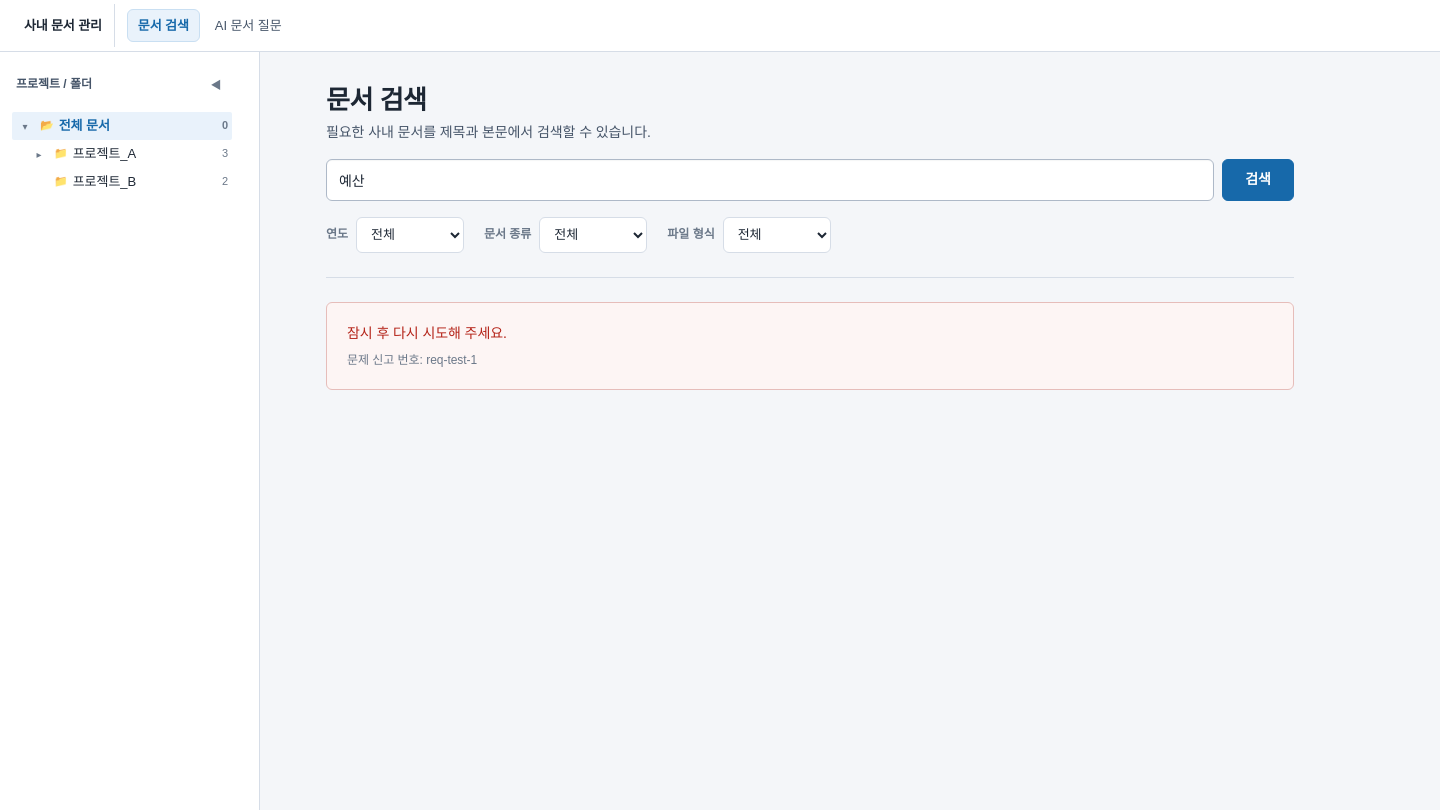
SearchPage › retries the same query on submit after a server failure
Expected: the message "잠시 후 다시 시도해 주세요. 문제 신고 번호: req-test-1" is shown, [326,302,1294,390]
Click the button "검색" at x=1258, y=180, box [1222,159,1294,201]
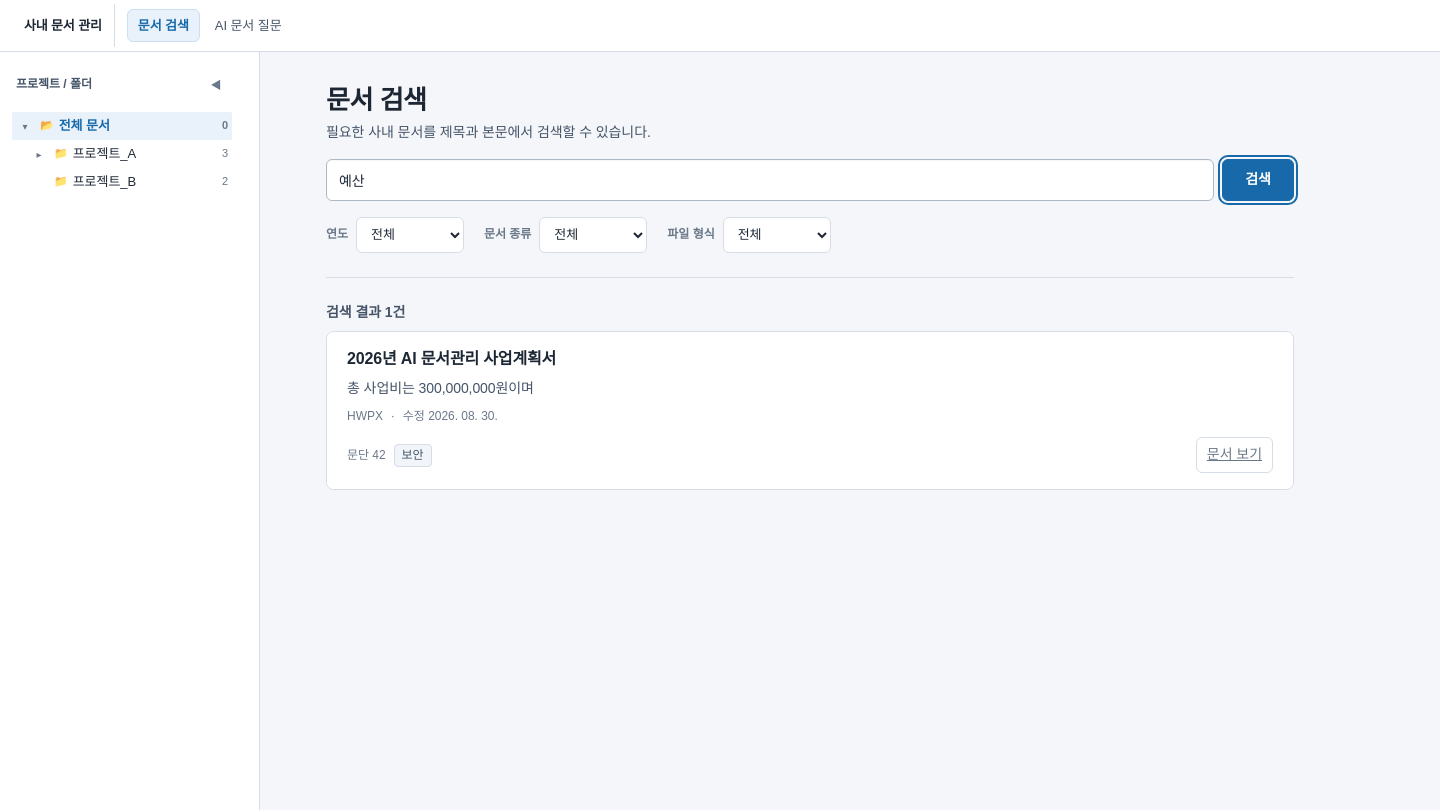
Expected: the text "검색 결과 1건" is shown, [326,304,405,320]
